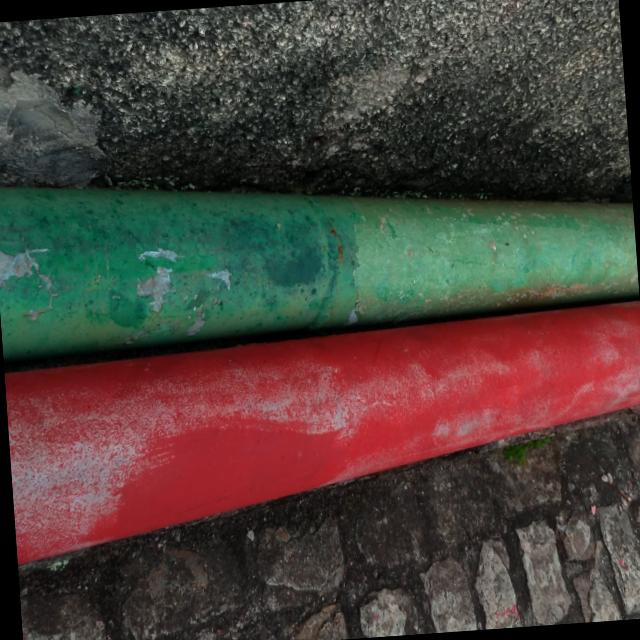gas: (1, 303, 640, 562), (0, 142, 640, 367)
